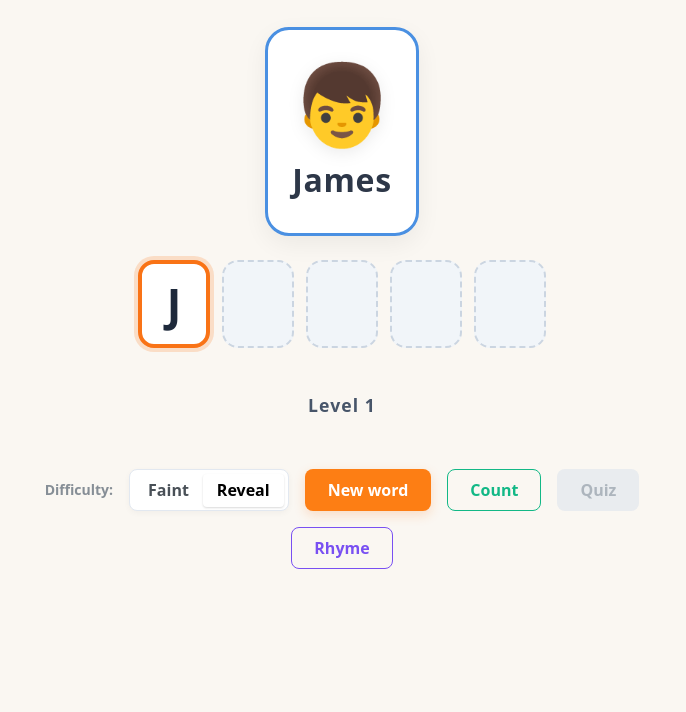
Test: TypingGame › medium mode switches to tens layout and requires two-digit progression
Click the button "Count".
click(494, 490)  # box x1=447 y1=469 x2=542 y2=511
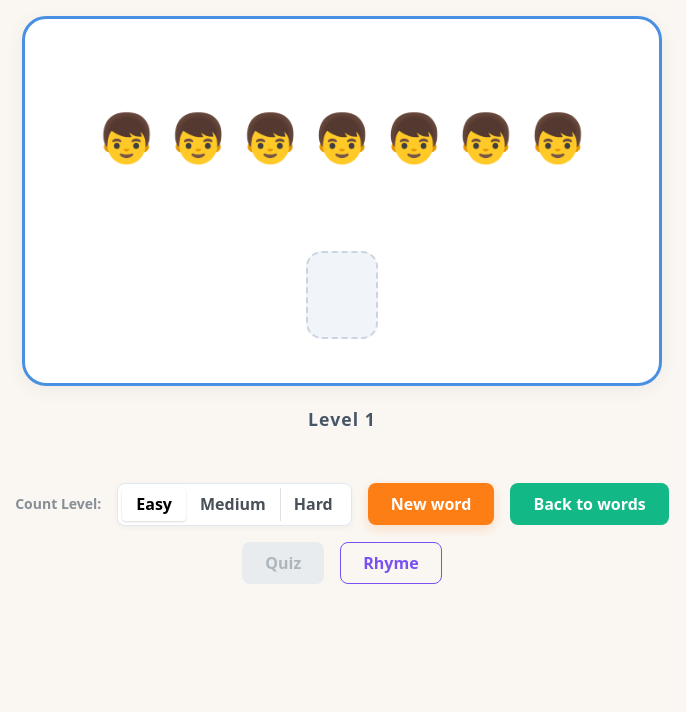
Click the radio button labelled "Medium".
click(233, 504)  # box x1=200 y1=493 x2=266 y2=515
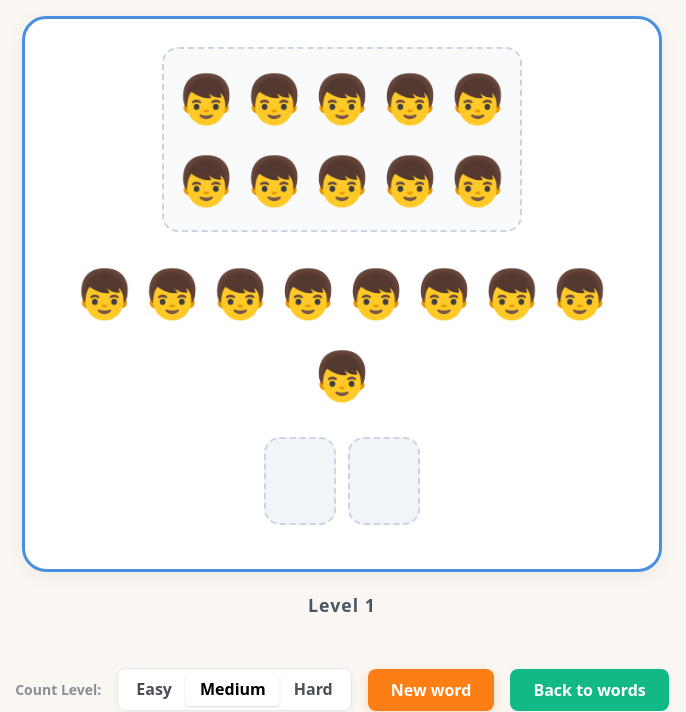
expect the list item with test id "number-tile-0" is shown: met, box x1=264 y1=437 x2=336 y2=525
expect the list item with test id "number-tile-1" is shown: met, box x1=348 y1=437 x2=420 y2=525
expect the element with test id "tens-group-0" is shown: met, box x1=162 y1=47 x2=522 y2=232
